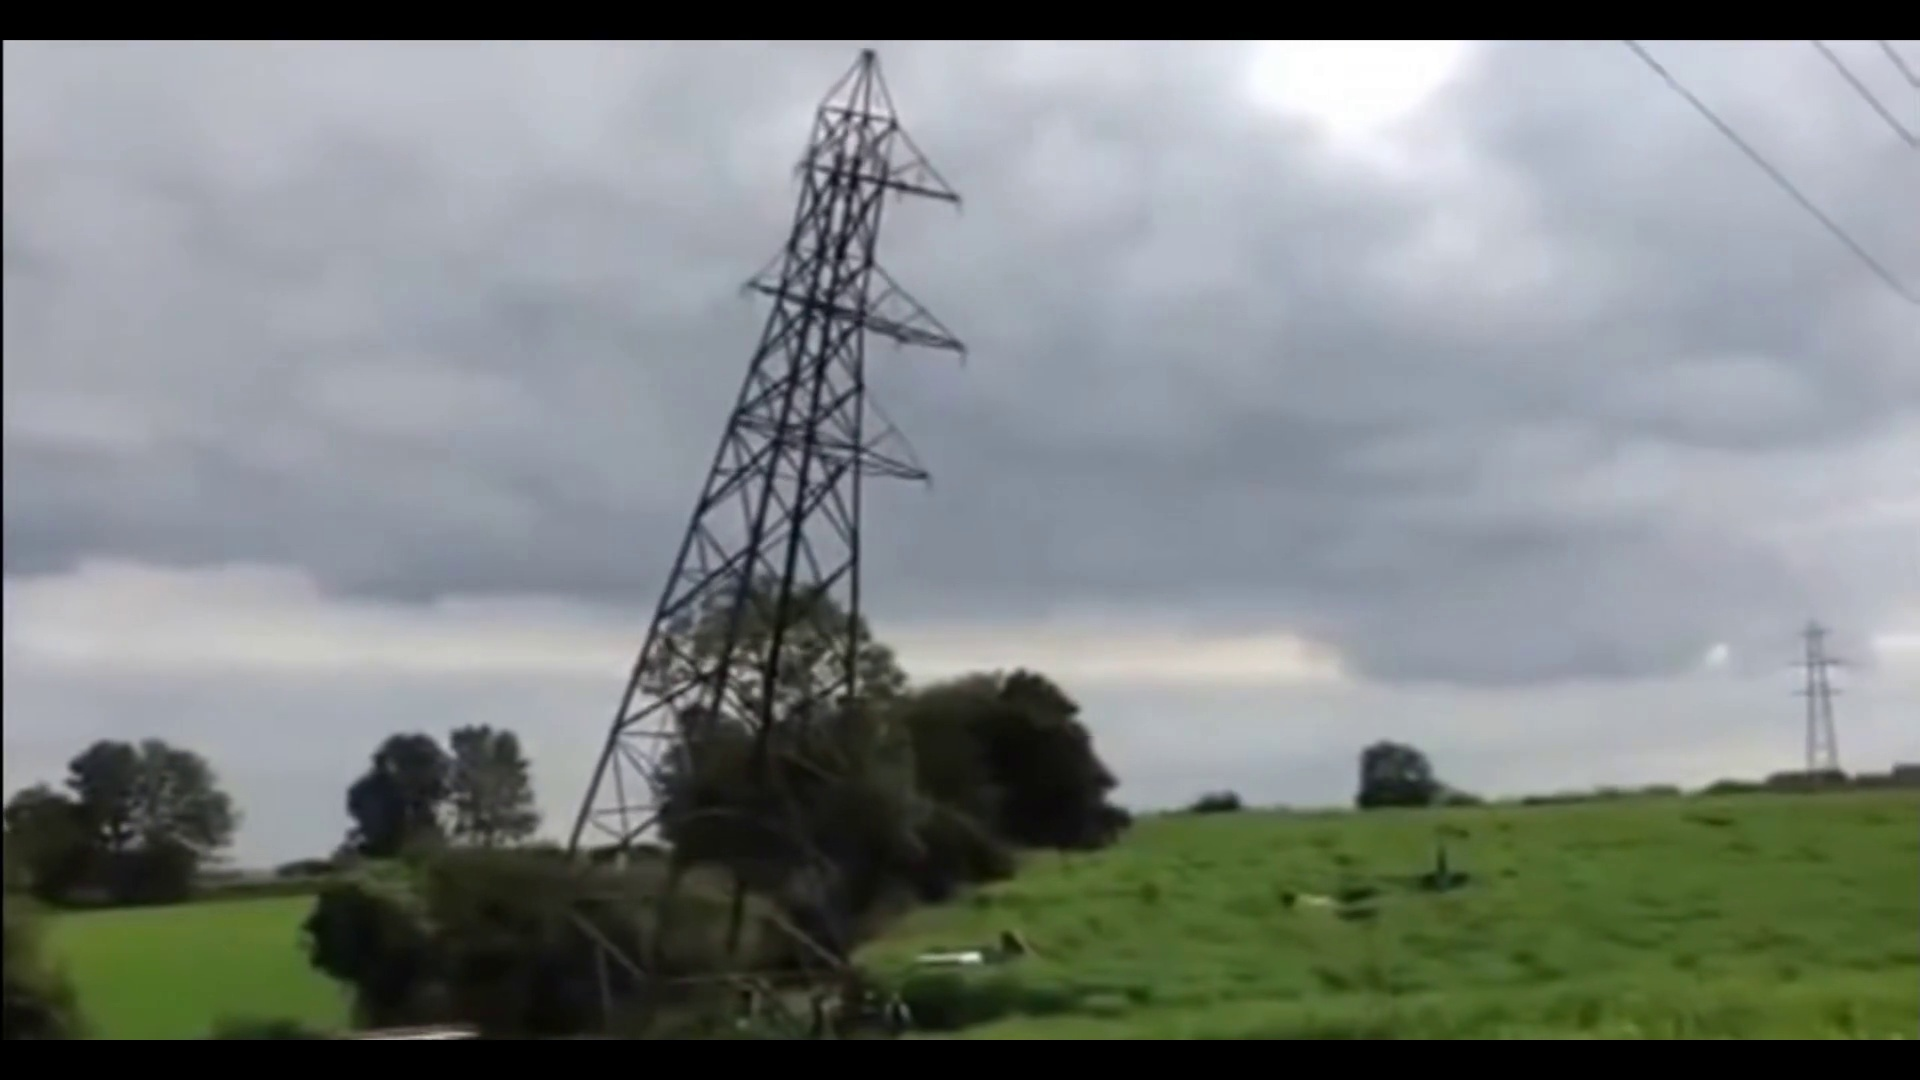tower_up: (553, 42, 977, 872)
